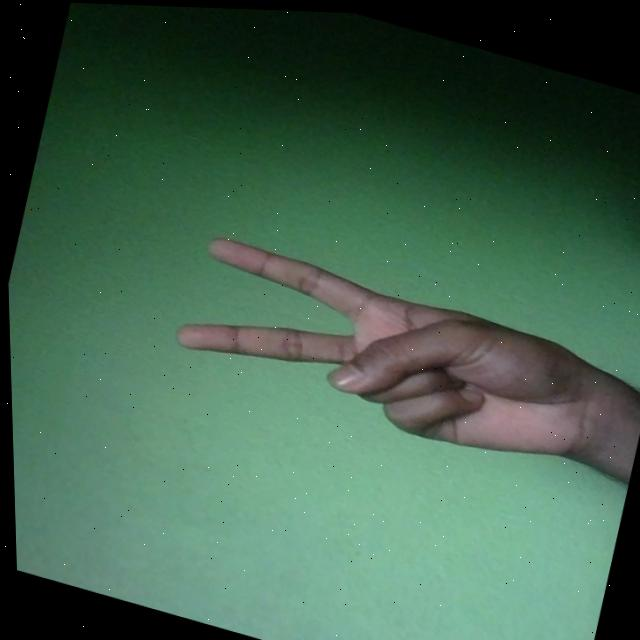Peace: (163, 226, 617, 479)
